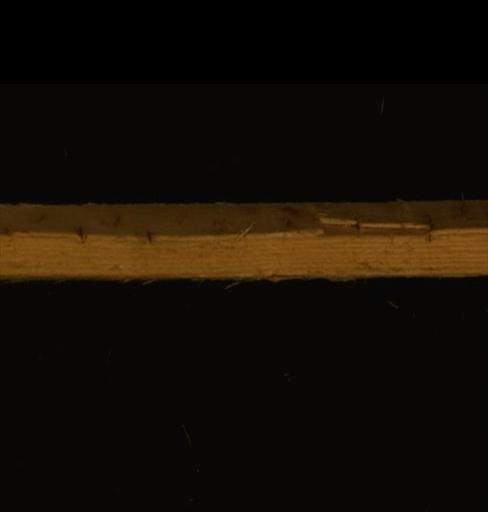wave: (0, 207, 485, 282)
